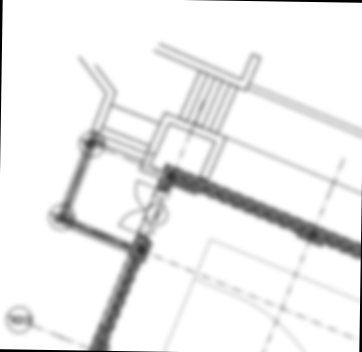double door: (115, 176, 160, 237)
window: (96, 253, 135, 331)
